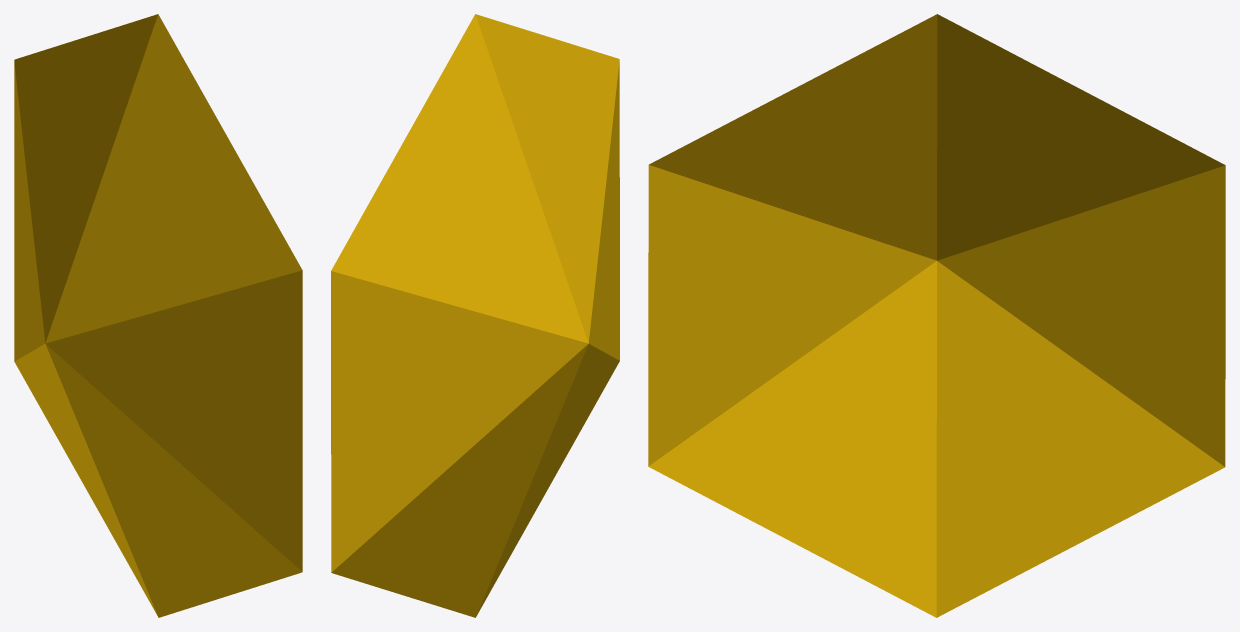
Rendered from SL_t2_sl_LIGHT.fbx.
The picture shows the model from 3 angles, left to right: view 1: azimuth 30°, elevation 25°; view 2: azimuth 150°, elevation 25°; view 3: azimuth 270°, elevation 25°; orthographic projection.
Parts seen in each view (by area): view 1: SL_t2_sl_LIGHT; view 2: SL_t2_sl_LIGHT; view 3: SL_t2_sl_LIGHT.
Part boxes in pixels (x1,y1,x2,y2): SL_t2_sl_LIGHT: (14,14,302,617); SL_t2_sl_LIGHT: (331,14,619,617); SL_t2_sl_LIGHT: (648,14,1225,617).
Size of the model in its own units: 0.0206 by 0.1049 by 0.0909.
